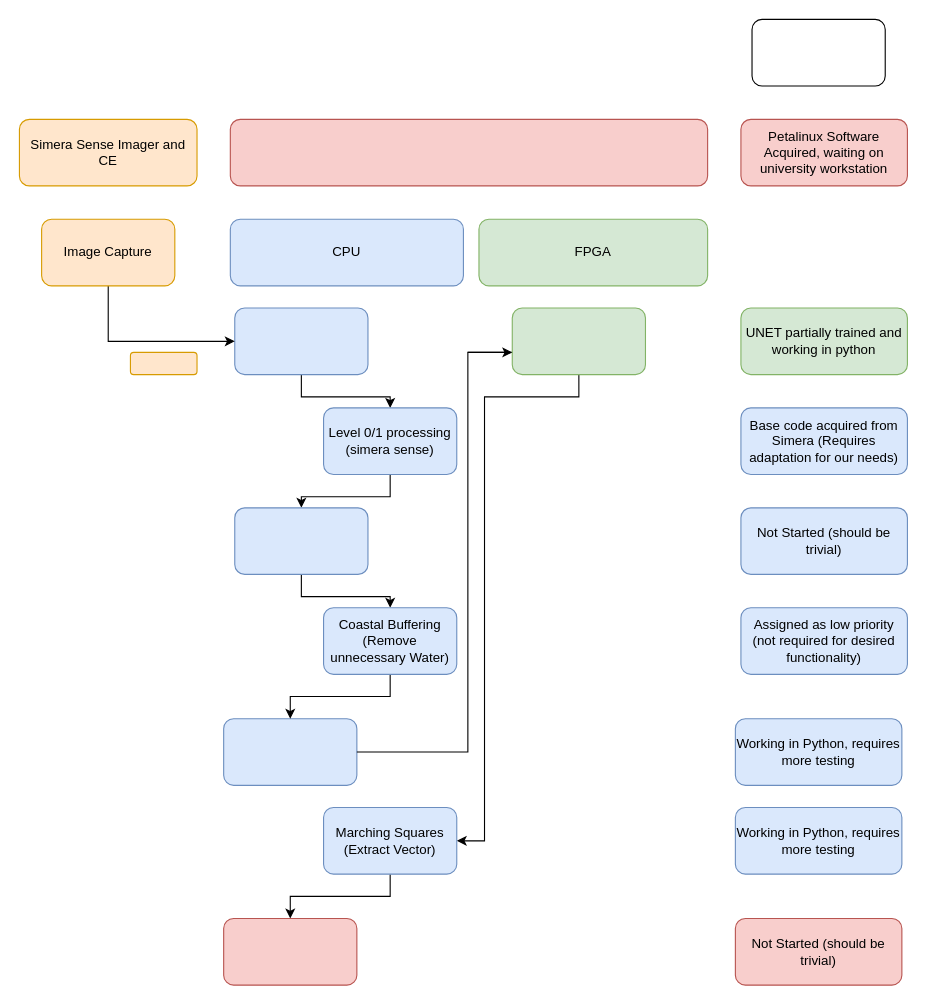
The diagram is 927 pixels wide and 1005 high, and some of its shapes have lost their labels. The shapes that lost their labels are listed below. From the top down, each one's centre as x and y in pixels, then its label:
point (818, 52): Current Progress
point (468, 152): PDH (Running petalinux OS)
point (301, 341): Input Image from Mulitscape50
point (578, 341): UNET (classify image)
point (163, 363): RS422
point (301, 540): Image segmentation (1024x1024)
point (290, 751): Cloud Masking
point (290, 951): Long Term Storage before Downlink
